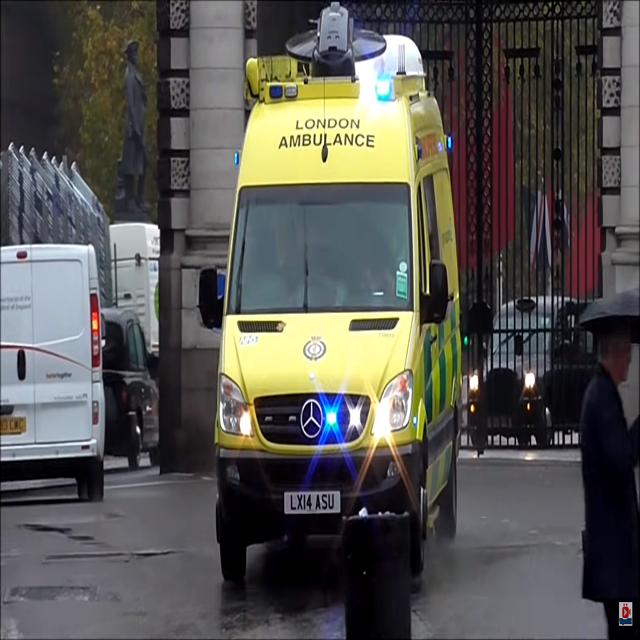emergency-vehicles: (203, 4, 471, 594)
